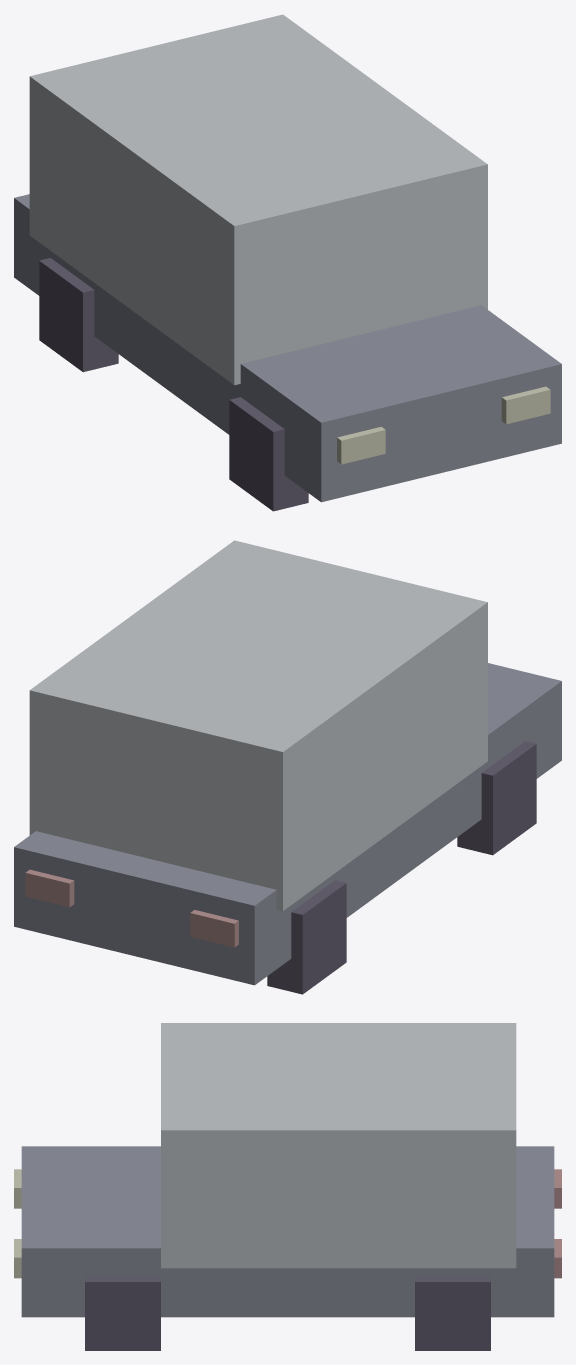
Rendered from veh_truck.glb.
3 views of the same model, one above another, from view 1: azimuth 30°, elevation 25°; view 2: azimuth 150°, elevation 25°; view 3: azimuth 270°, elevation 25° (orthographic). The views are drawn at different scales.
Parts seen in each view (by area): view 1: veh_truck; view 2: veh_truck; view 3: veh_truck.
Boxes of the visible parts, bbox=[...] form: veh_truck: bbox=[14, 14, 561, 511]; veh_truck: bbox=[14, 540, 561, 994]; veh_truck: bbox=[14, 1023, 561, 1350].
Bounding box in the file's own units: 2.08 × 1.9 × 4.32.
